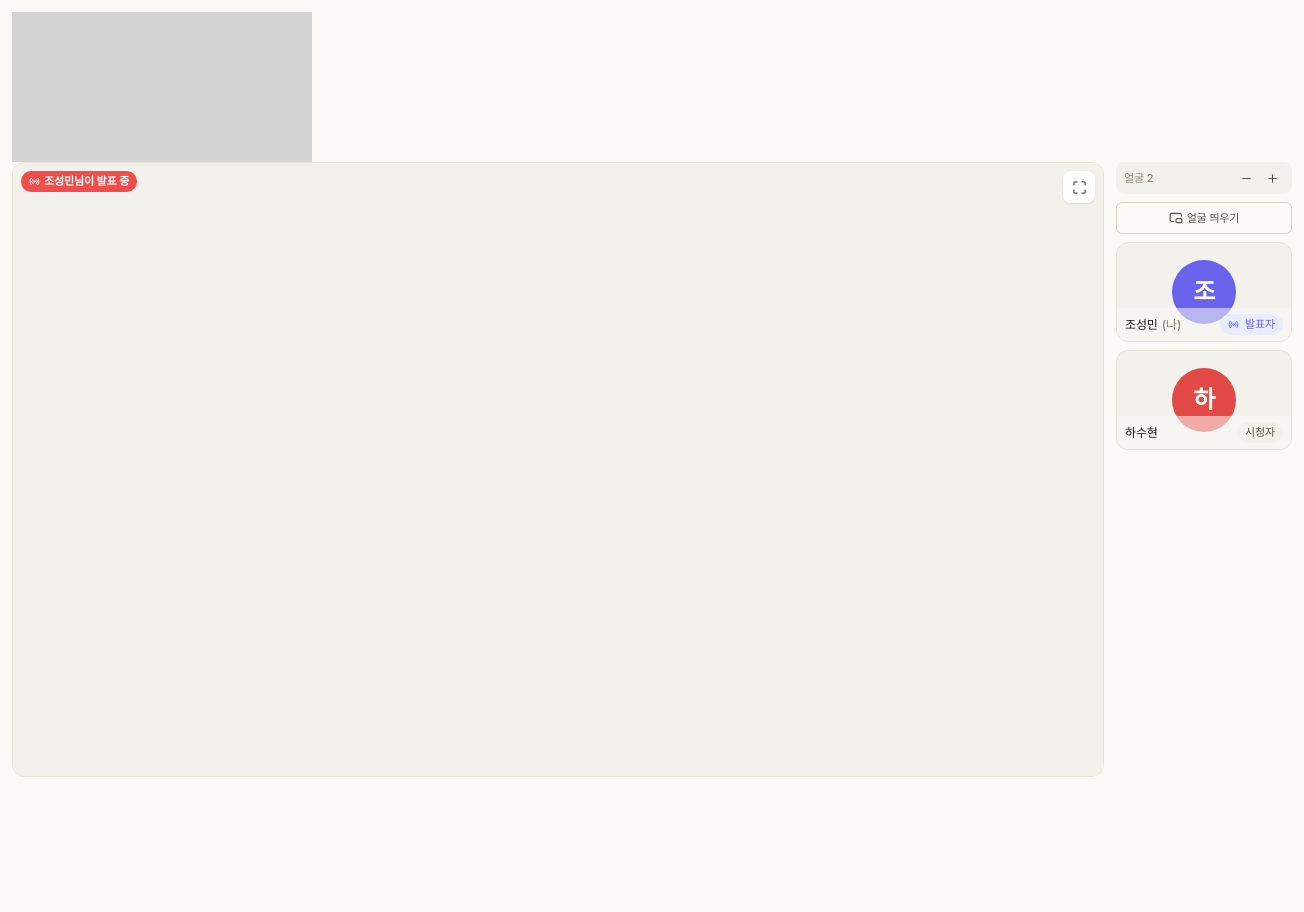
Test: 발표 중 참가자 얼굴 창 › 열기가 거부되면 안내하고 재시도할 수 있다
The width and height of the screenshot is (1304, 912).
Click the button with aria-label "참가자 얼굴 띄우기" at (1204, 218), box [1116,202,1292,234]
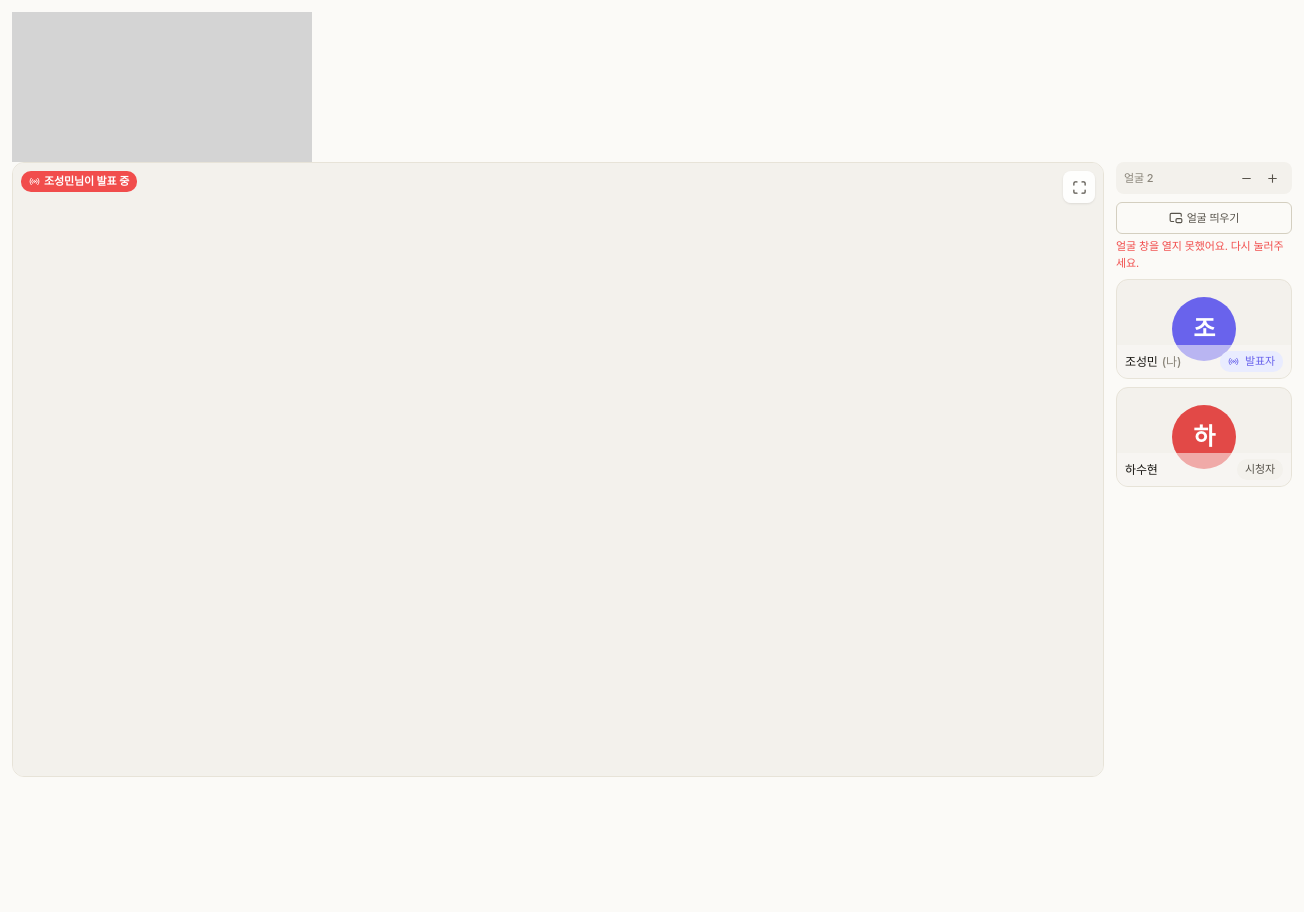
Result: the message shows "얼굴 창을 열지 못했어요" at [1116,239,1284,270]
Click the button with aria-label "참가자 얼굴 띄우기" at (1204, 218), box [1116,202,1292,234]
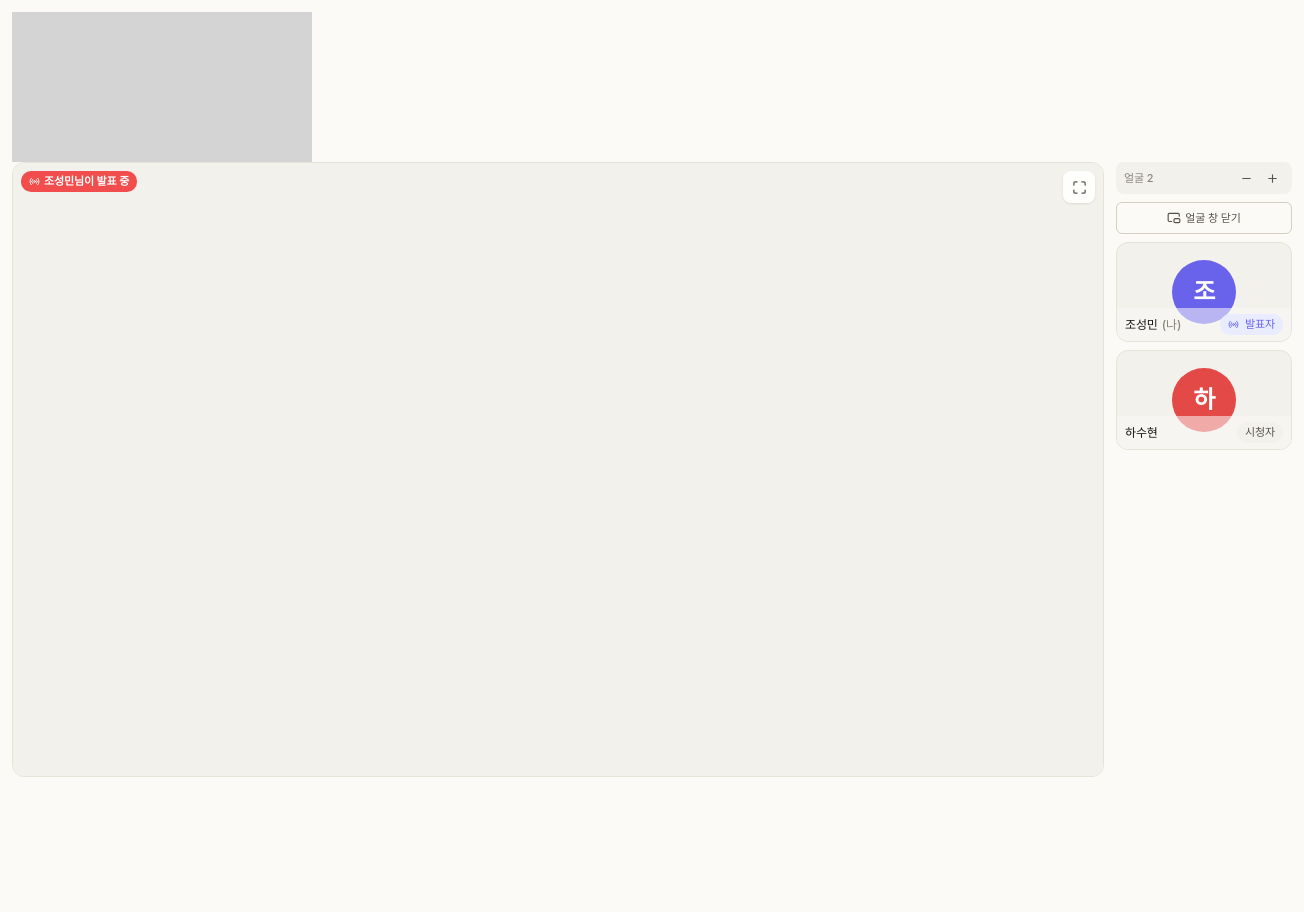
Result: the message "얼굴 창을 열지 못했어요. 다시 눌러주세요." is gone
